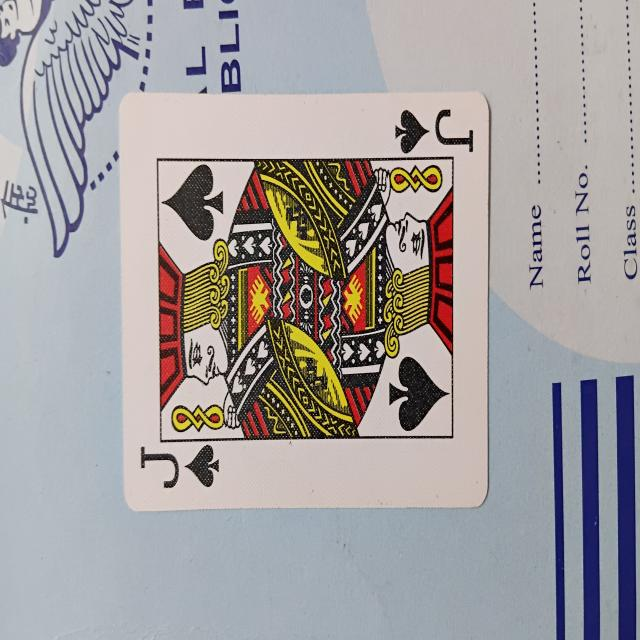JS: (120, 94, 487, 504)
